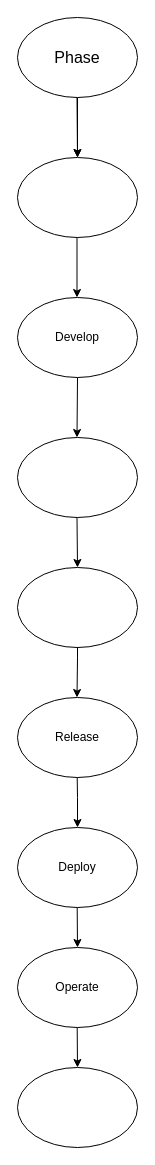
This 155x1165 diagram has some shape labels left out. Each missing label, with the box of its shape:
Build: (16, 436, 138, 518)
Plan: (16, 156, 138, 238)
Test: (16, 566, 138, 648)
